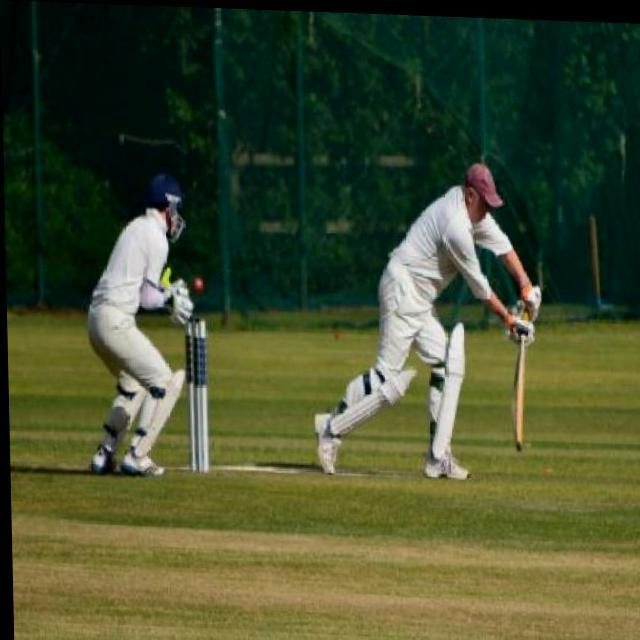-: (185, 242, 218, 303)
